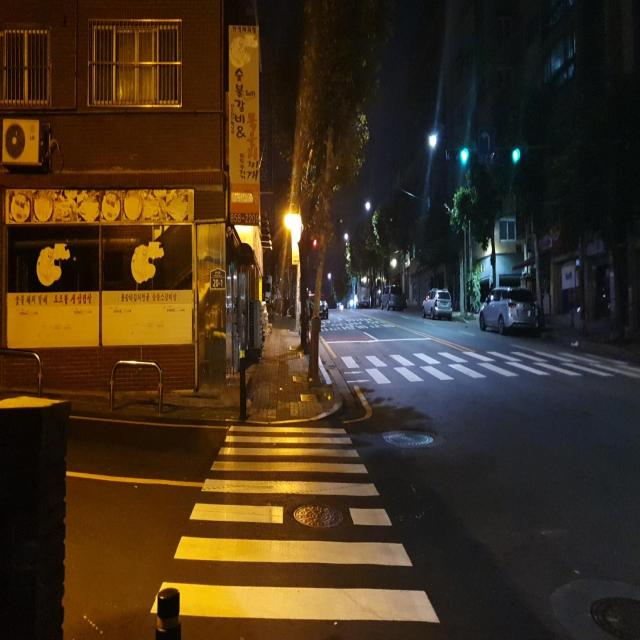횡단보도: (147, 423, 444, 625), (327, 338, 639, 384)
